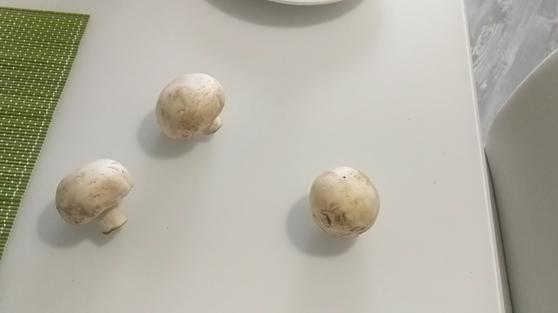champignon: (53, 158, 131, 234), (309, 167, 380, 236), (157, 71, 225, 137)
